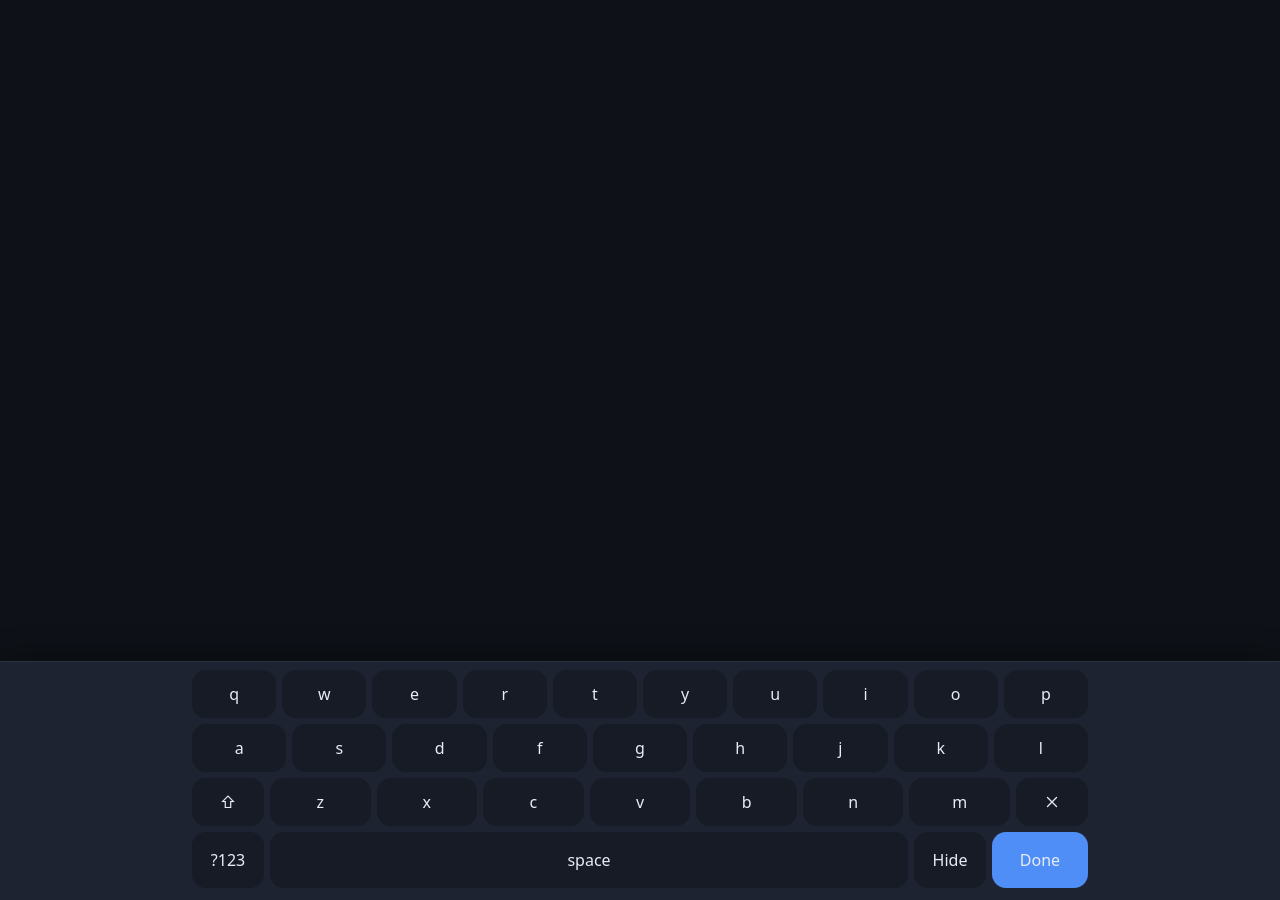
Test case: OnScreenKeyboard — symbols › offers the second rank of symbols without a third page
Press the mouse on the button "?123": (228, 860) [192, 832, 264, 888]
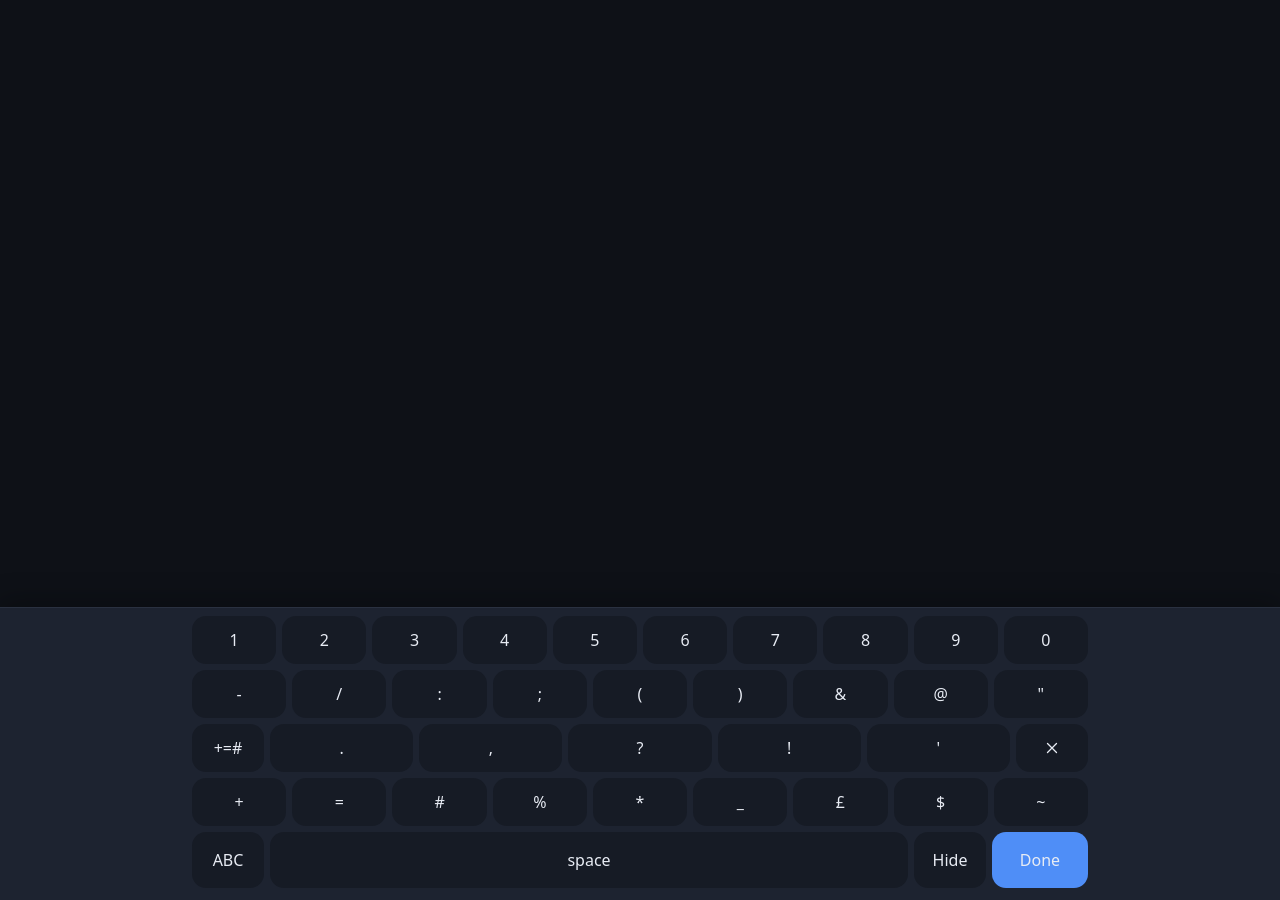
Result: the button "+" is shown at [192, 778, 286, 826]
Result: the button "=" is shown at [292, 778, 386, 826]
Result: the button "#" is shown at [392, 778, 487, 826]
